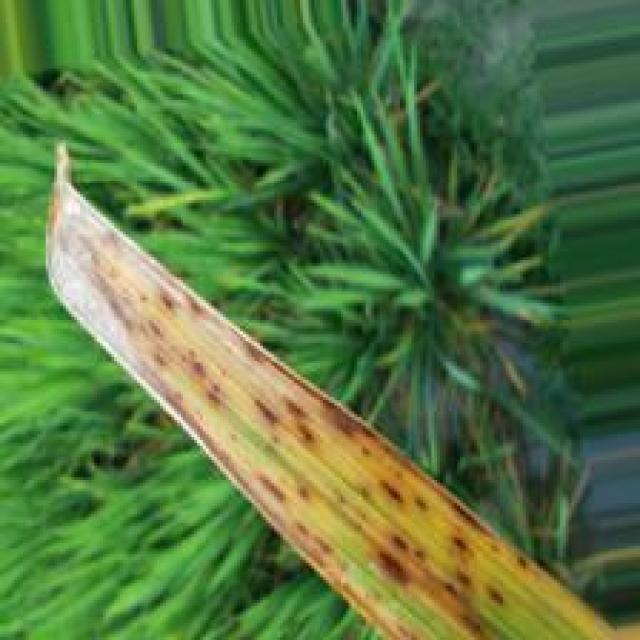Narrow_Brown_Leaf_Spot: (42, 177, 555, 640)
